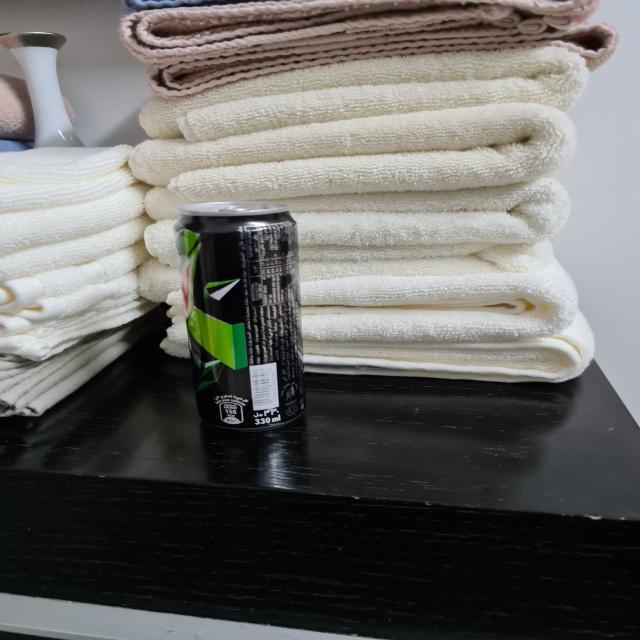can: (180, 204, 312, 438)
